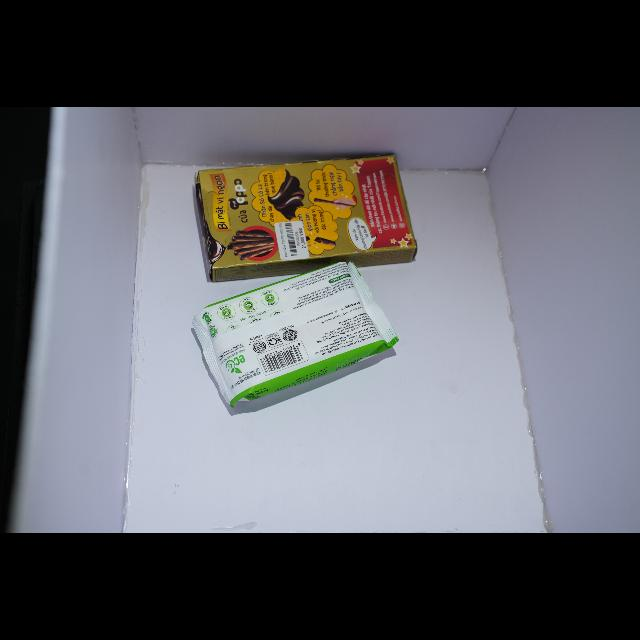banh_toppo_socola: (195, 155, 417, 281)
khan_giay: (193, 263, 399, 407)
